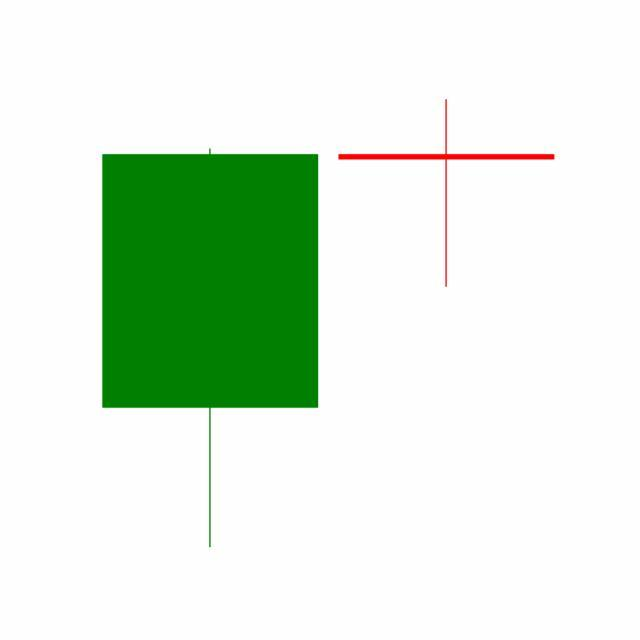Spinning Top: (328, 97, 566, 290)
